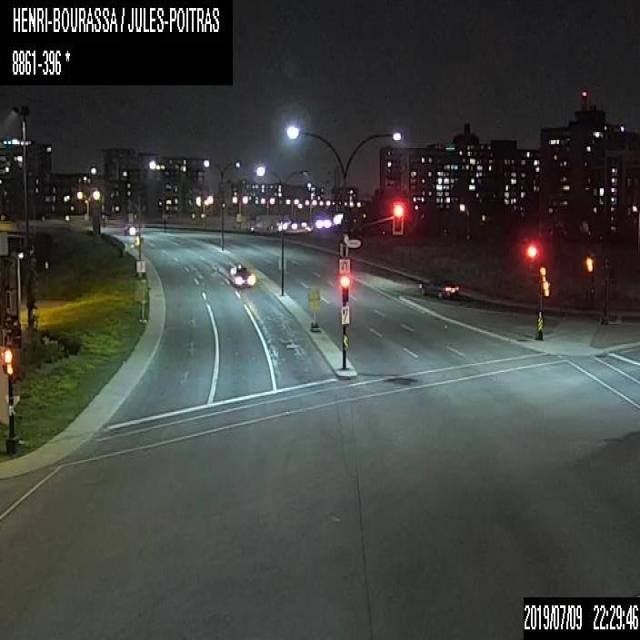vehicle: (420, 275, 458, 300), (228, 261, 255, 288), (123, 221, 137, 235)
